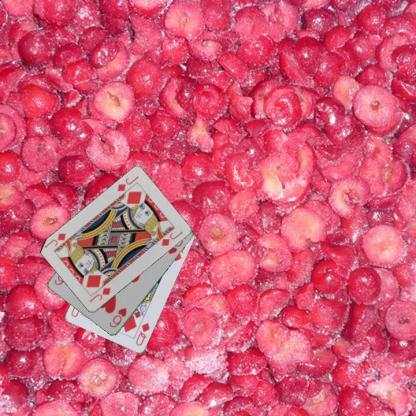6h: (107, 306, 128, 328)
Jd: (86, 285, 112, 304), (114, 174, 140, 193)
Qd: (133, 320, 151, 347)
